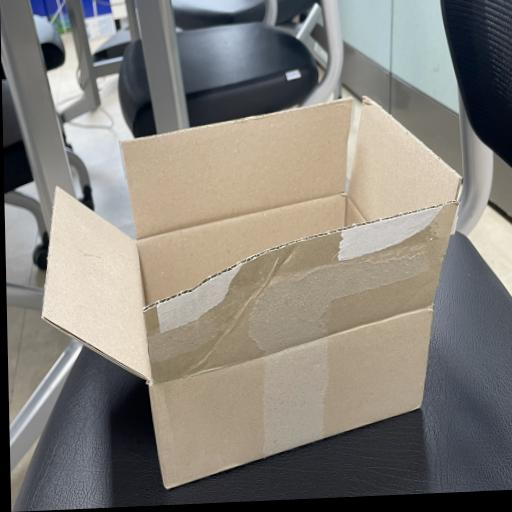box: (41, 96, 463, 490)
opened: (41, 96, 464, 388)
